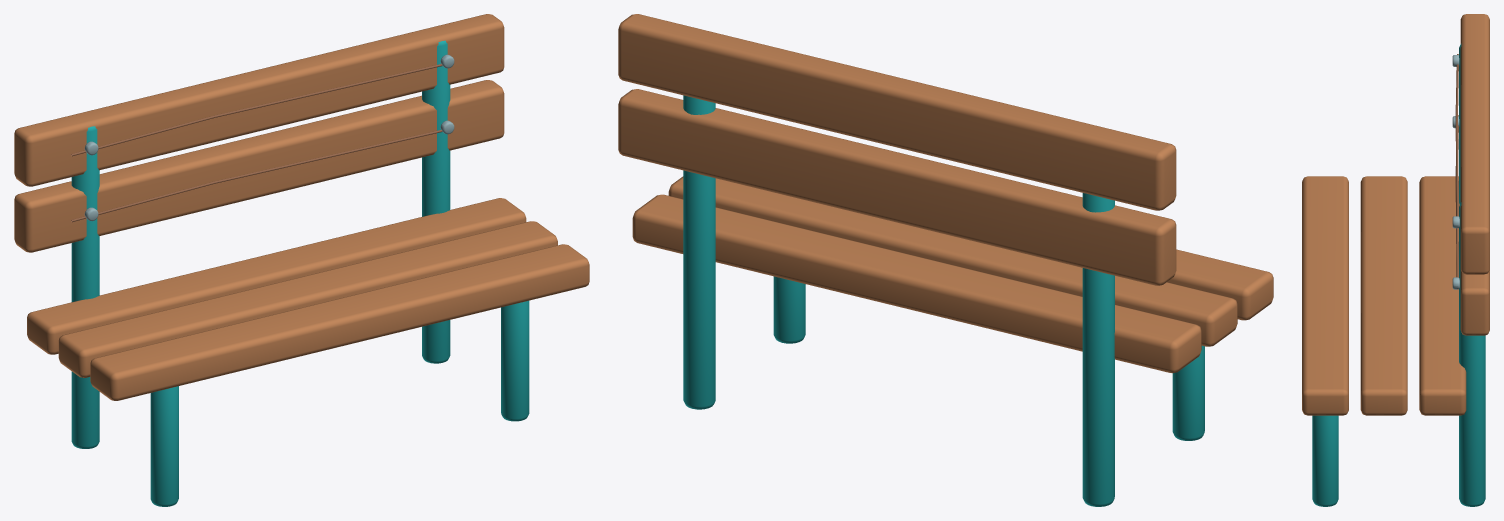
File: Bench.fbx
3 renders of one model, left to right at view 1: azimuth 30°, elevation 25°; view 2: azimuth 150°, elevation 25°; view 3: azimuth 270°, elevation 25°, orthographic. The views are drawn at different scales.
Visible parts, largest first — view 1: GEO-Body; view 2: GEO-Body; view 3: GEO-Body.
Part boxes in pixels (<box>): GEO-Body: <box>14,14,589,506</box>; GEO-Body: <box>618,14,1273,506</box>; GEO-Body: <box>1302,14,1489,506</box>.
Size of the model in its own units: 1.75 by 1.14 by 0.64.
